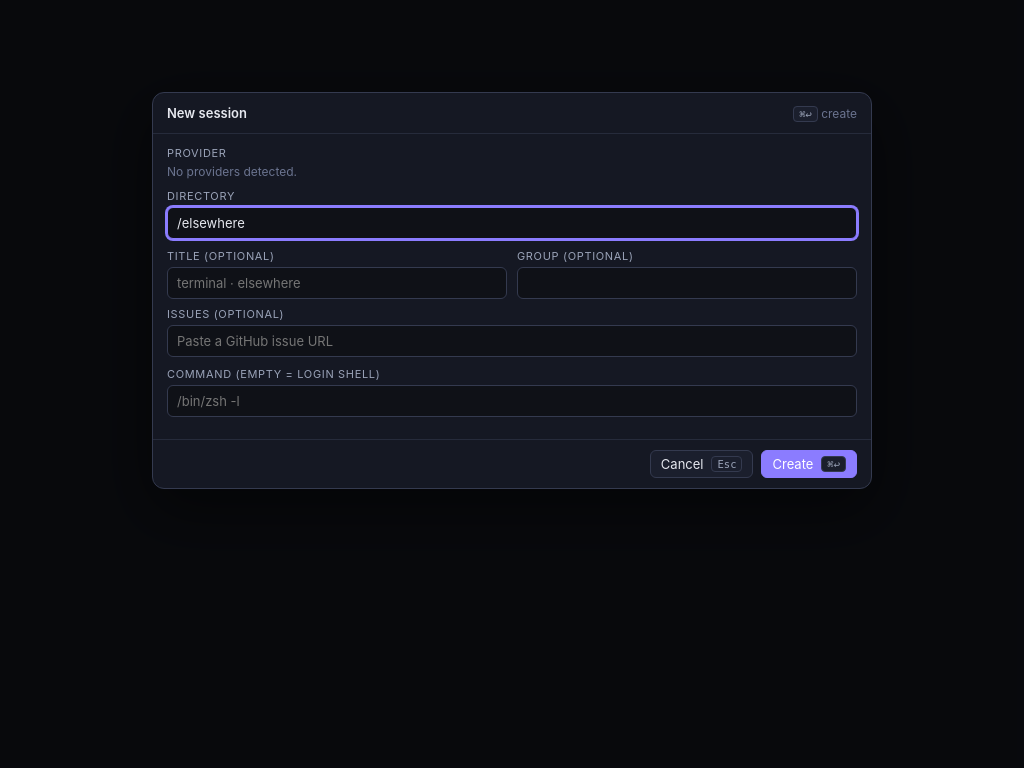
Scenario: only takes a pasted URL outside a GitHub repository
This screenshot has width=1024, height=768.
Type "not a url" into the field labelled "Issues (optional)".
click(512, 341); type("not a url")  # box left=167, top=325, right=857, bottom=357
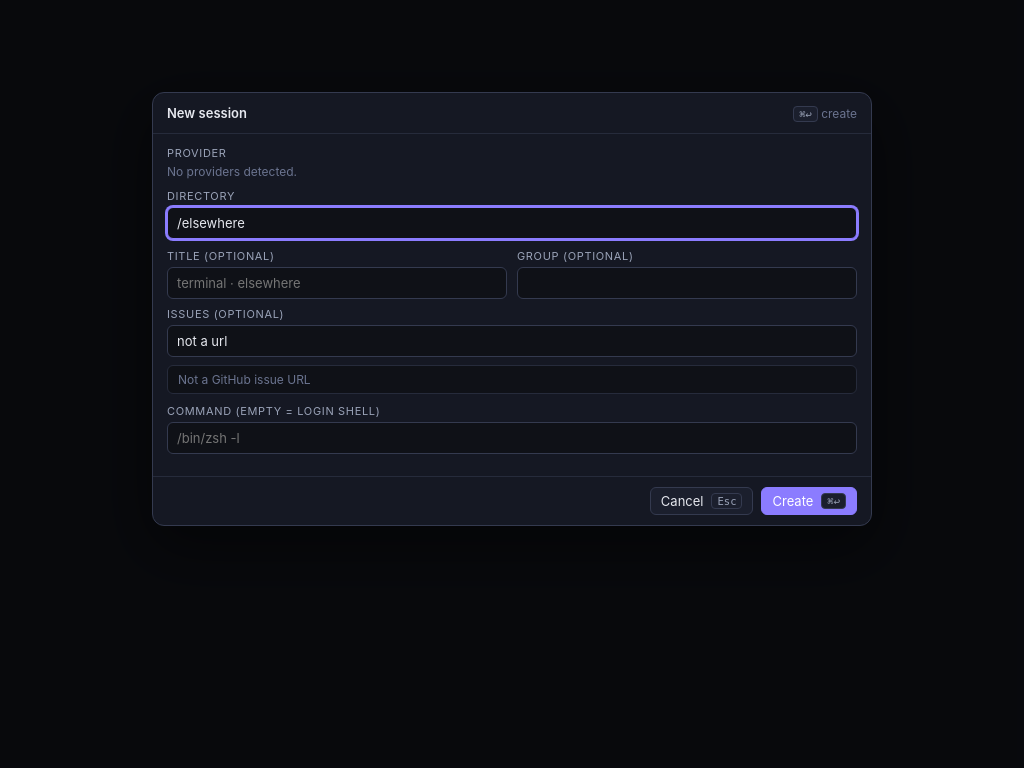
expect the text "Not a GitHub issue URL" is shown: met, box left=178, top=372, right=311, bottom=387
